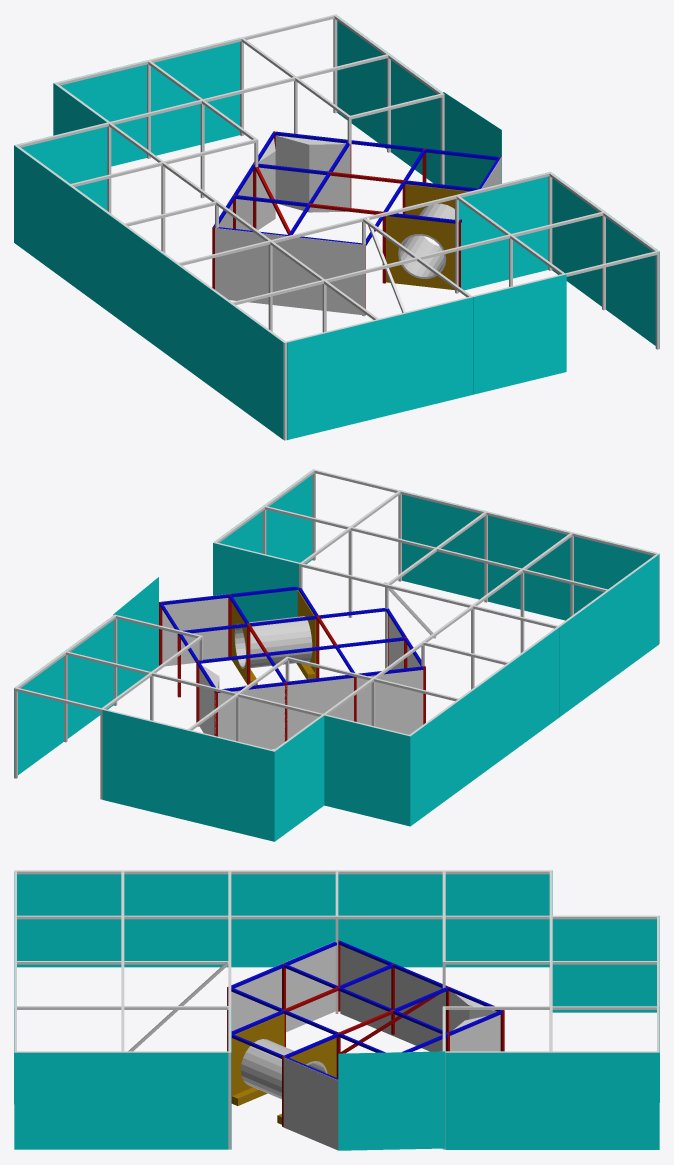
File: R2C_field.dae
3 renders of one model, top to bottom at view 1: azimuth 30°, elevation 25°; view 2: azimuth 150°, elevation 25°; view 3: azimuth 270°, elevation 25°, orthographic. The views are drawn at different scales.
Visible parts, largest first — view 1: Group195_001; view 2: Group195_001; view 3: Group195_001.
Part boxes in pixels (bbox=[...]): Group195_001: bbox=[14, 14, 659, 440]; Group195_001: bbox=[14, 469, 659, 841]; Group195_001: bbox=[14, 870, 659, 1150].
Size of the model in its own units: 5.29 by 7.81 by 1.33.
